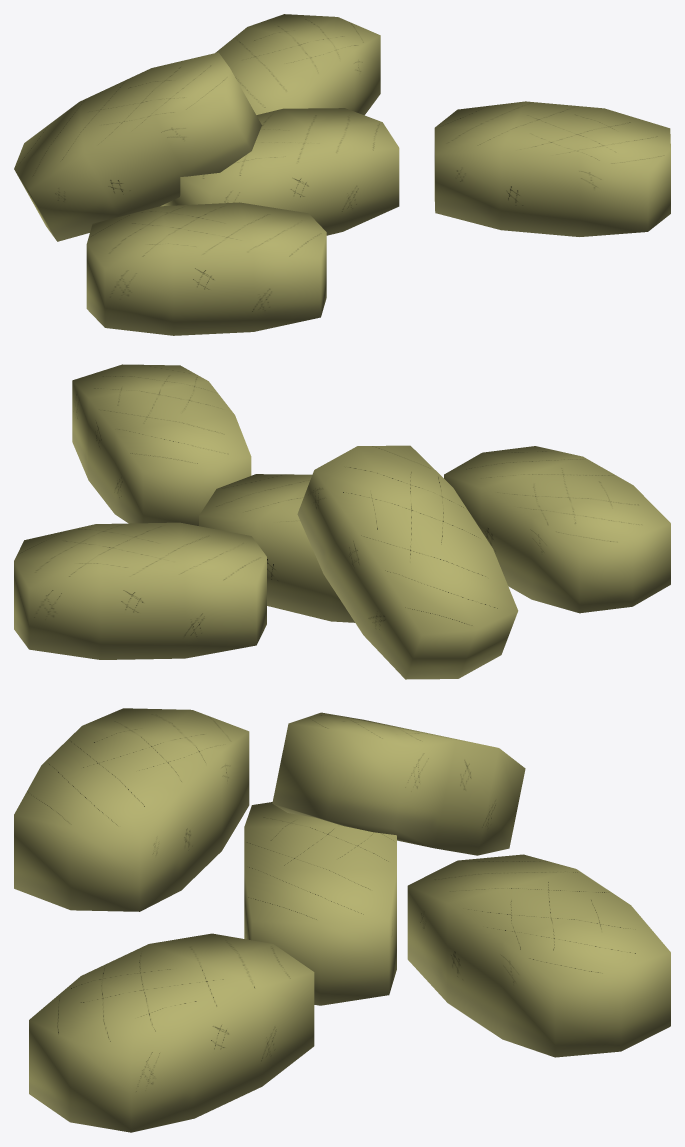
File: Sandbags Loose.glb
The picture shows the model from 3 angles, top to bottom: view 1: azimuth 30°, elevation 25°; view 2: azimuth 150°, elevation 25°; view 3: azimuth 270°, elevation 25°; orthographic projection. The views are drawn at different scales.
Parts seen in each view (by area): view 1: sandbag.011; view 2: sandbag.011; view 3: sandbag.011.
Part boxes in pixels (x1,y1,x2,y2): sandbag.011: (14,14,670,335); sandbag.011: (14,364,670,679); sandbag.011: (14,708,670,1132).
Size of the model in its own units: 3.04 by 0.7979 by 2.41.
Materials: 1 (1 with a texture image).
